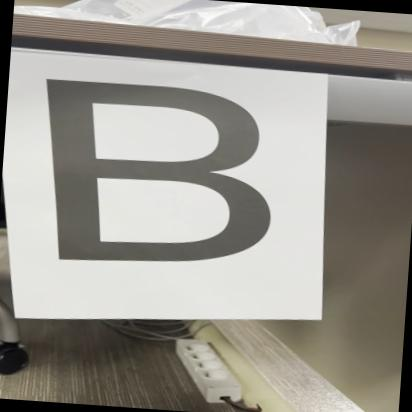seat: (19, 60, 277, 288)
